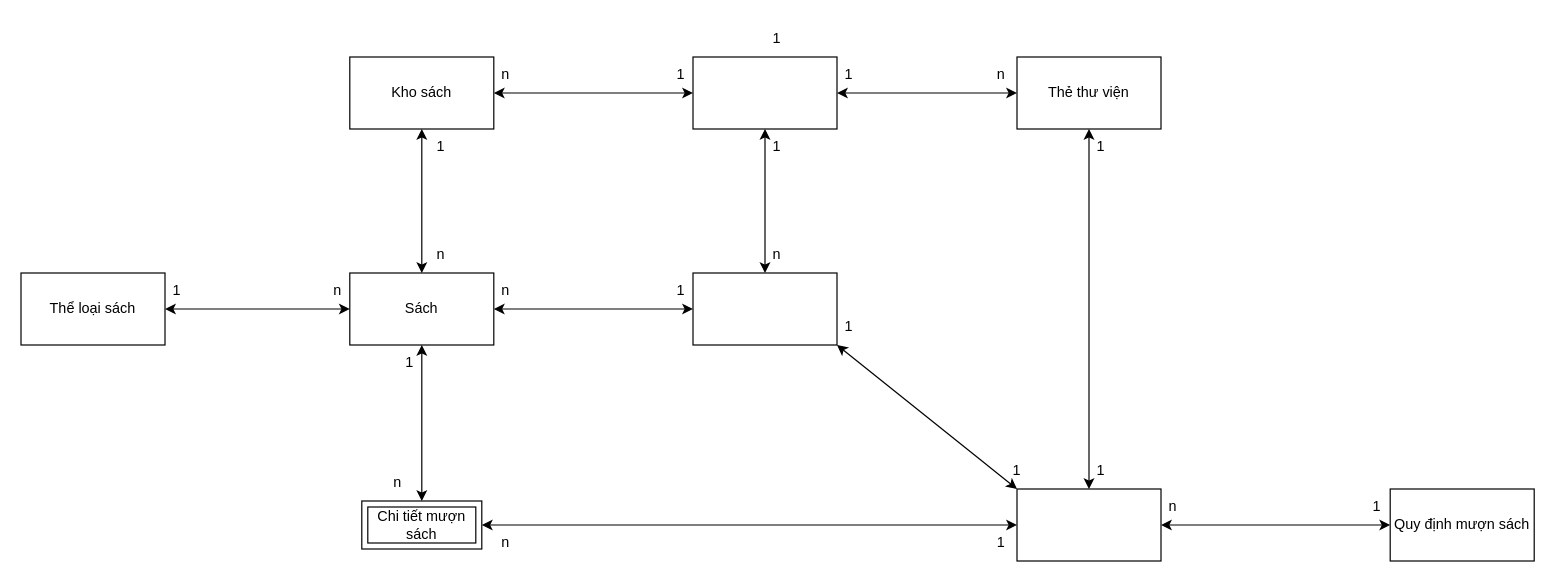
Some shapes in this 1555 by 582 pixel diagram are drawn without their labels. The centre of each missing label's shape, as x and y in pixels:
"Người quản lí" goes at pixel 764 92.
"Phiếu mượn sách" goes at pixel 764 308.
"Độc giả" goes at pixel 1088 524.
